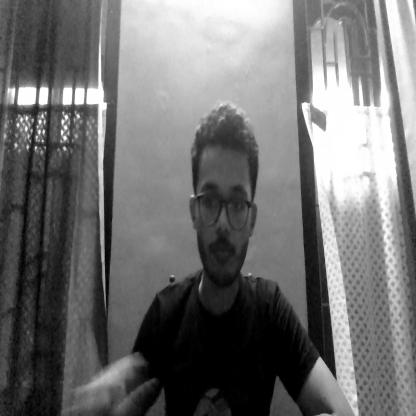Normal: (185, 113, 262, 290)
